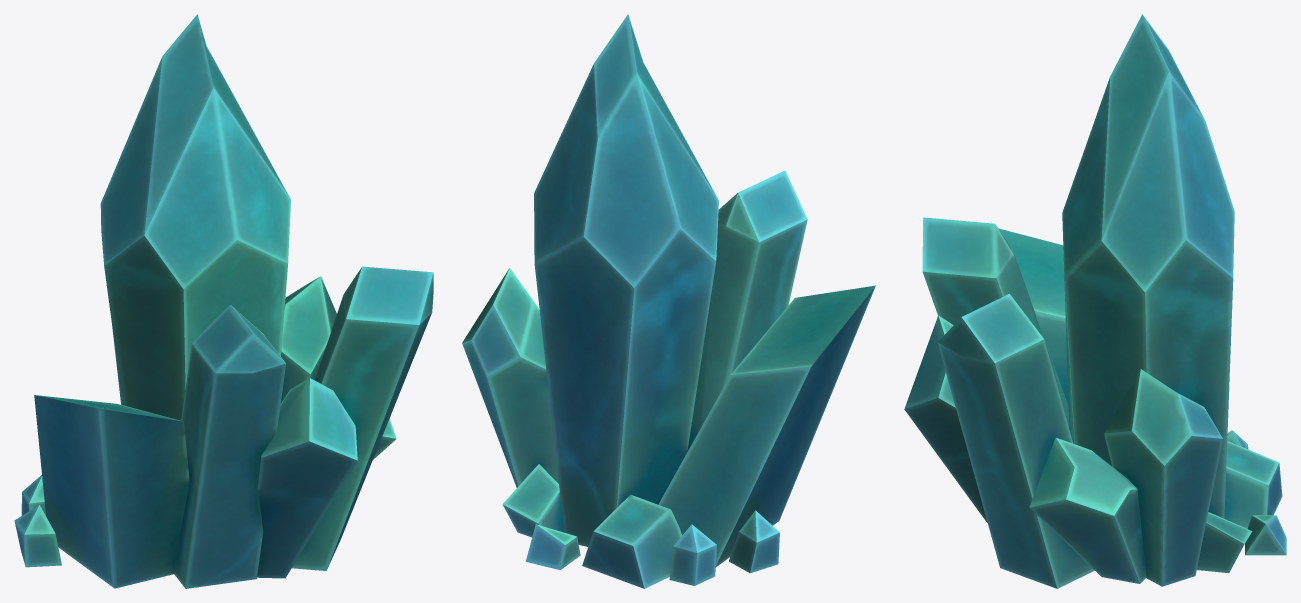
Rendered from Cystal Spike1.glb.
3 views of the same model, side by side, from view 1: azimuth 30°, elevation 25°; view 2: azimuth 150°, elevation 25°; view 3: azimuth 270°, elevation 25° (orthographic). The views are drawn at different scales.
Parts seen in each view (by area): view 1: Crystal Spike; view 2: Crystal Spike; view 3: Crystal Spike.
Part boxes in pixels (bbox=[...]): Crystal Spike: bbox=[14, 14, 433, 588]; Crystal Spike: bbox=[462, 14, 875, 588]; Crystal Spike: bbox=[904, 14, 1286, 588].
Bounding box in the file's own units: 1.8 × 2.64 × 1.74.
Materials: 1 (1 with a texture image).
